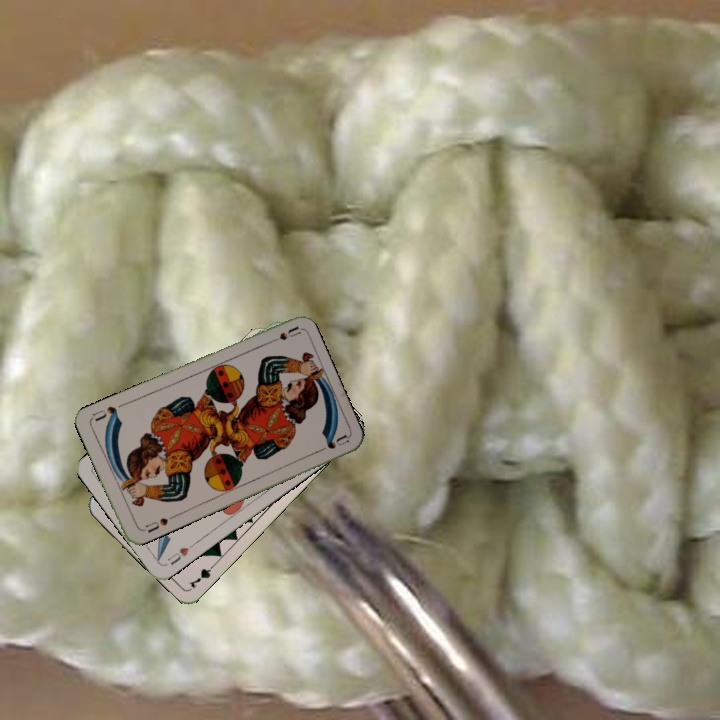G7: (185, 558, 219, 591)
HU: (163, 539, 197, 568)
SU: (262, 322, 302, 347), (137, 514, 171, 535)
